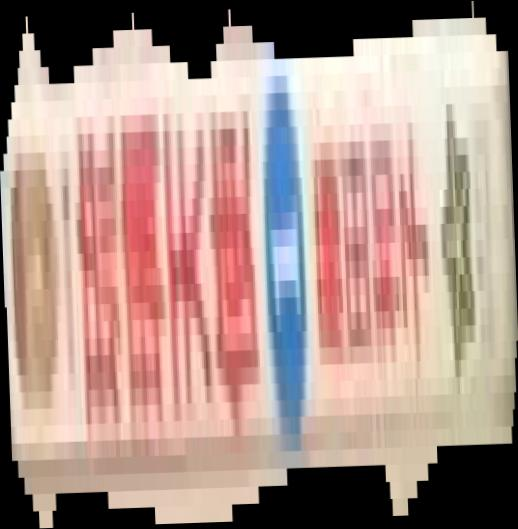flat: (1, 1, 518, 529)
